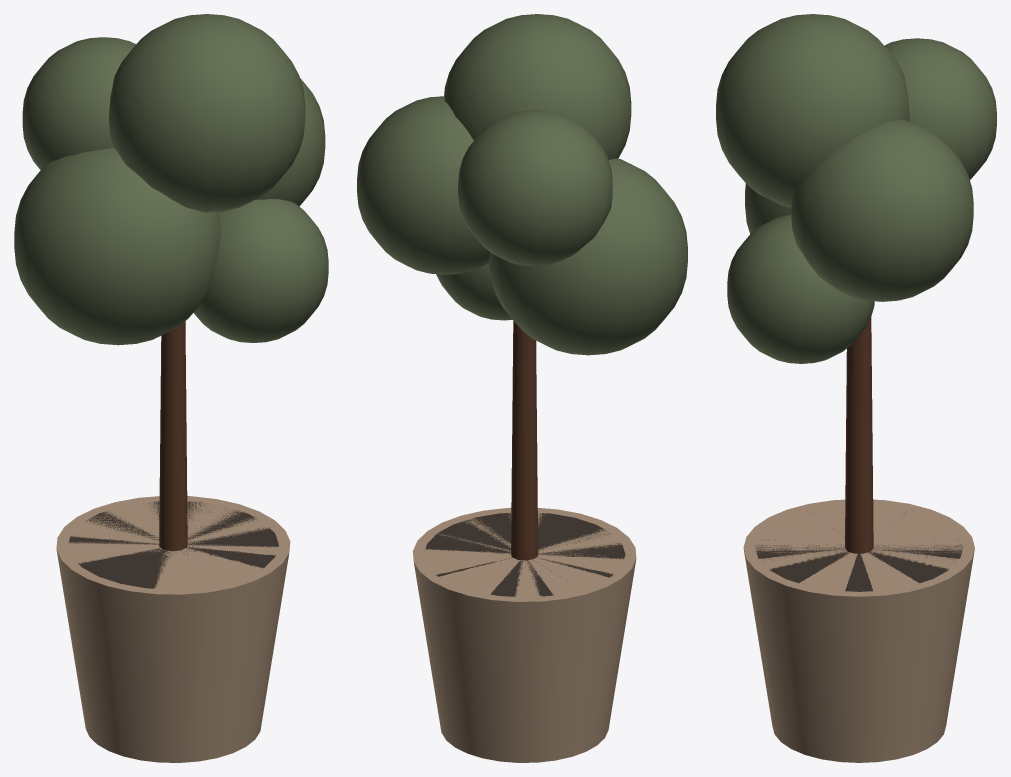
File: indoor-plant.glb
The picture shows the model from 3 angles, left to right: view 1: azimuth 30°, elevation 25°; view 2: azimuth 150°, elevation 25°; view 3: azimuth 270°, elevation 25°; orthographic projection. The views are drawn at different scales.
Visible parts, largest first — view 1: planter, foliage_c, foliage_a, foliage_e, foliage_d, planter_soil, foliage_stem, foliage_b; view 2: planter, foliage_a, foliage_d, foliage_c, foliage_b, planter_soil, foliage_stem, foliage_e; view 3: planter, foliage_b, foliage_c, foliage_e, foliage_d, foliage_stem, planter_soil, foliage_a.
Boxes of the visible parts, x1,y1,x2,y2 form: planter: (56, 496, 290, 762); foliage_c: (109, 14, 305, 212); foliage_a: (14, 148, 220, 345); foliage_e: (193, 199, 328, 342); foliage_d: (22, 37, 135, 169); planter_soil: (68, 501, 278, 588); foliage_stem: (159, 321, 187, 551); foliage_b: (255, 78, 325, 206); planter: (412, 507, 636, 762); foliage_a: (489, 158, 687, 355); foliage_d: (458, 110, 612, 266); foliage_c: (444, 14, 631, 159); foliage_b: (357, 96, 490, 274); planter_soil: (425, 513, 625, 596); foliage_stem: (511, 321, 538, 560); foliage_e: (436, 263, 512, 320); planter: (743, 499, 974, 762); foliage_b: (791, 119, 973, 301); foliage_c: (716, 14, 909, 207); foliage_e: (727, 215, 874, 363); foliage_d: (884, 38, 996, 179); foliage_stem: (845, 317, 873, 553); planter_soil: (755, 511, 962, 591); foliage_a: (745, 183, 791, 233).
Bounding box in the file's own units: 0.6444 × 1.45 × 0.5212.
